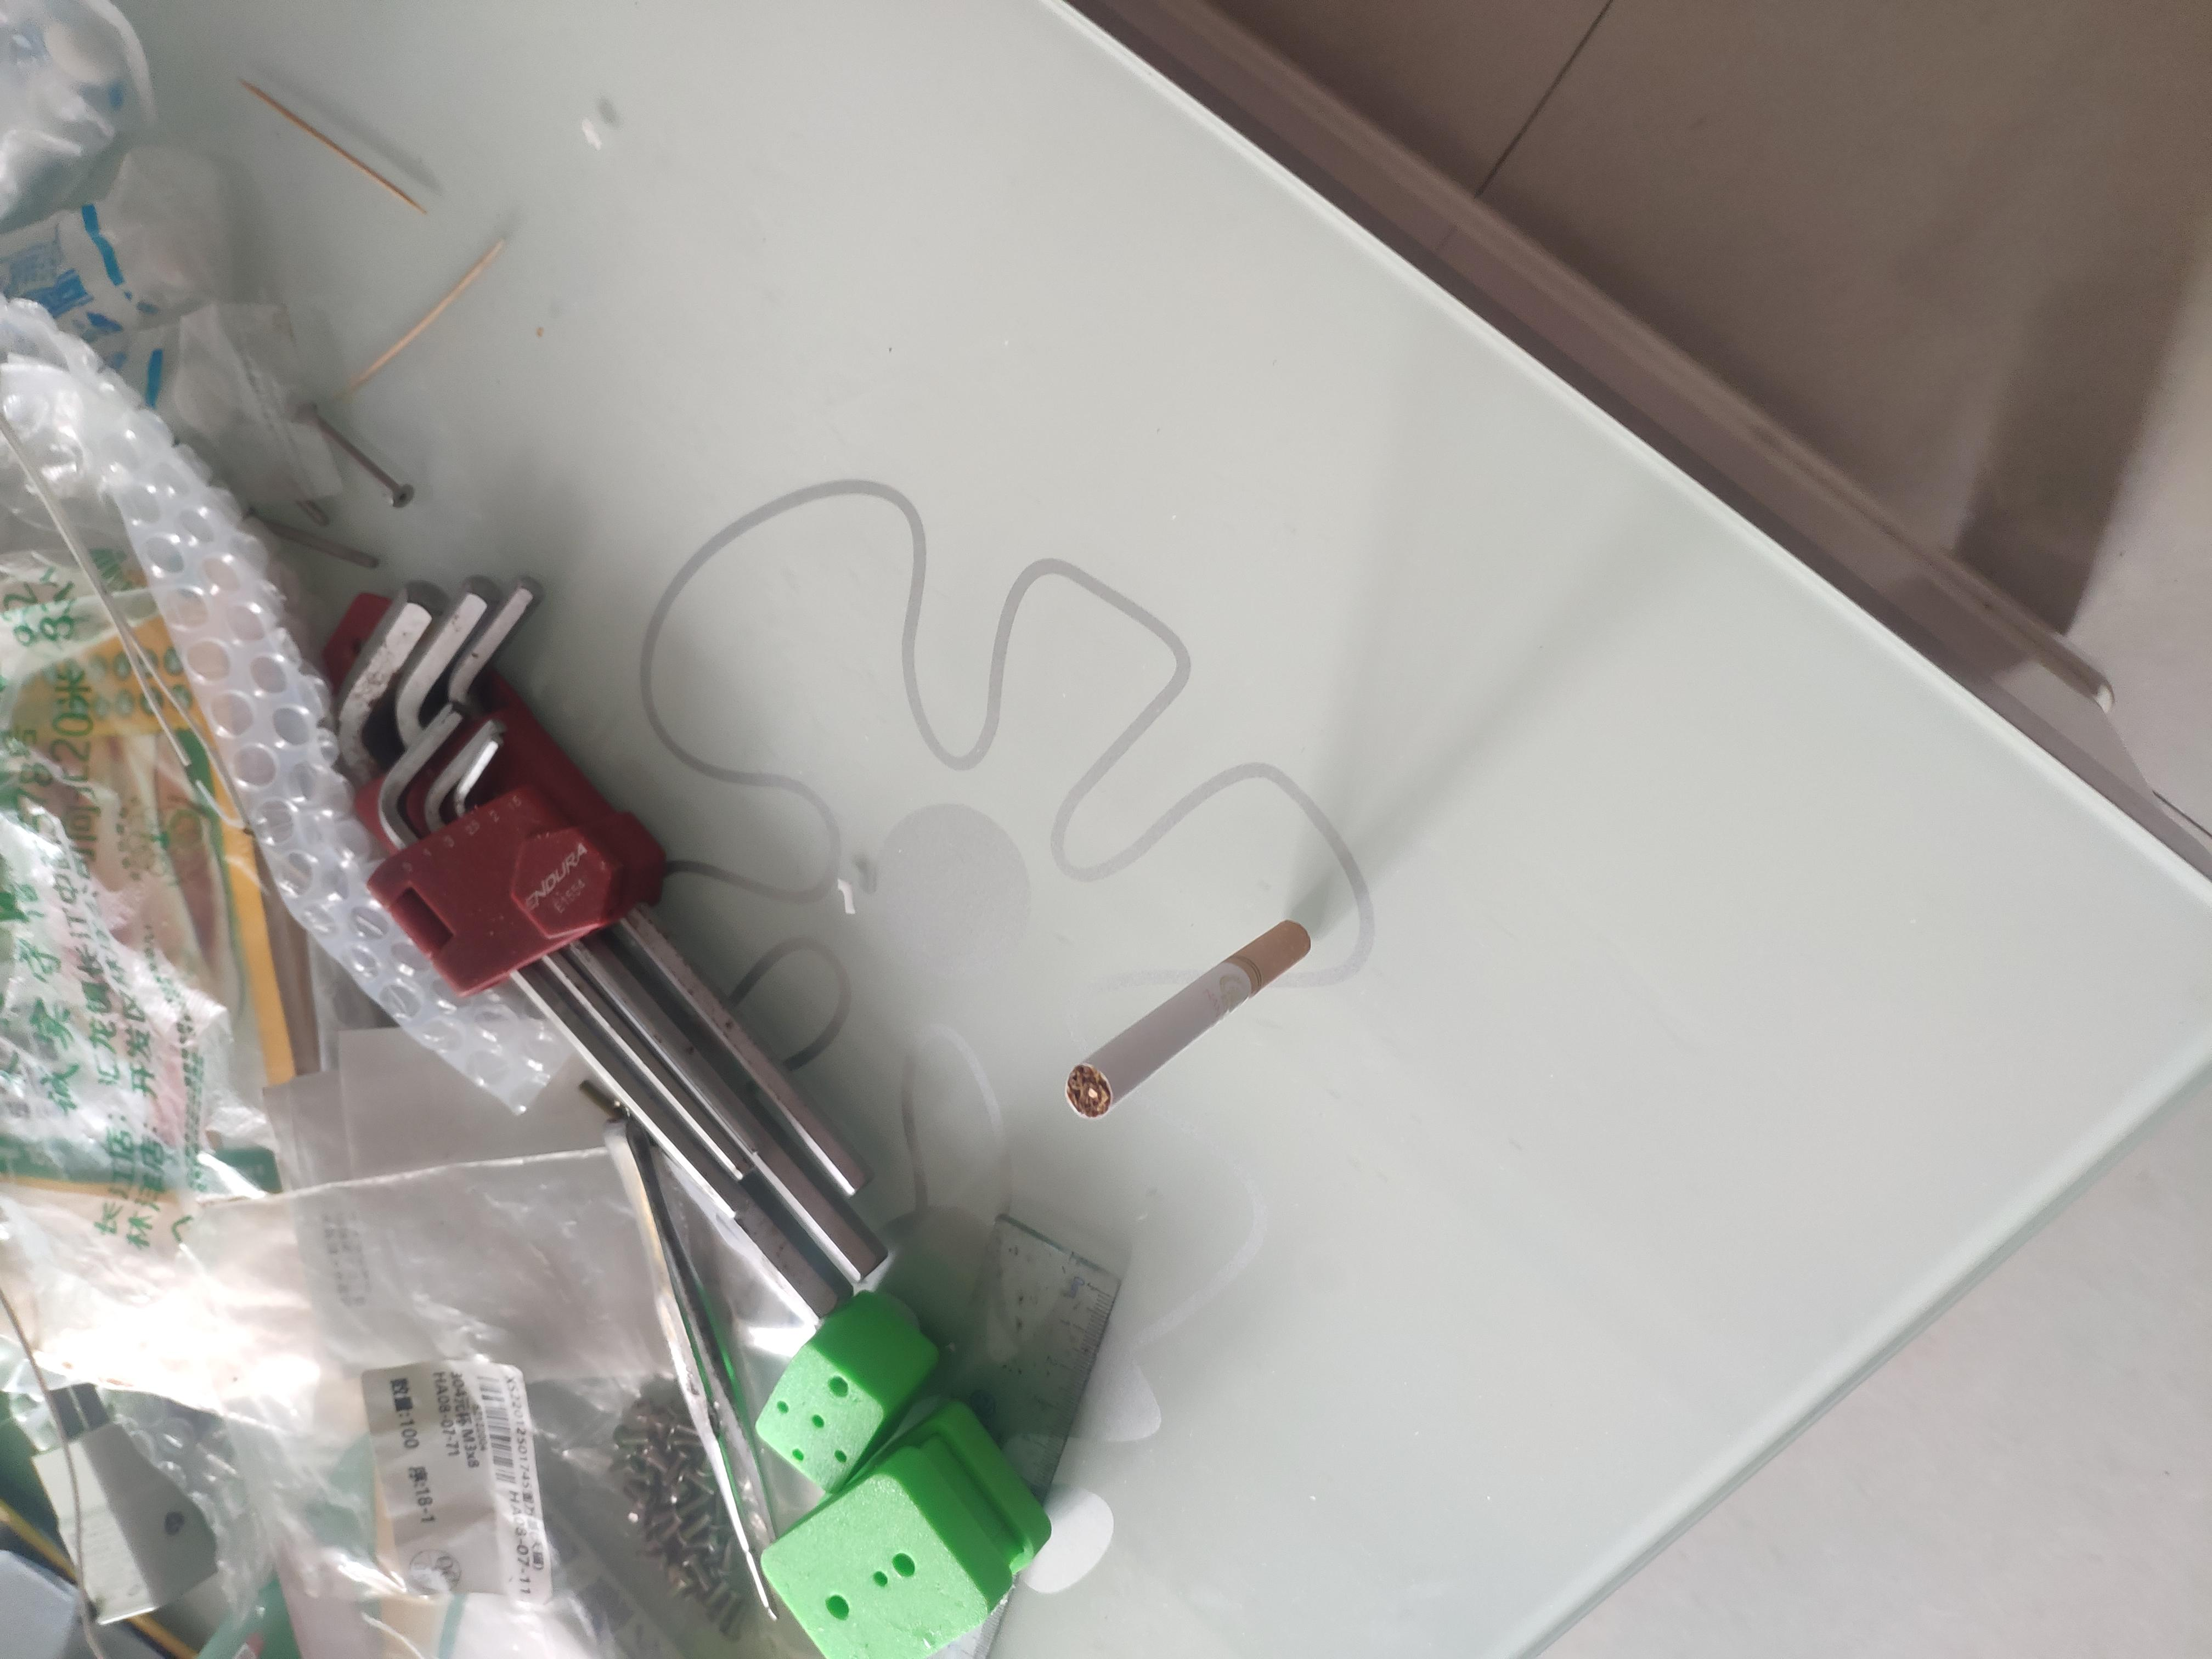smoke: (726, 796, 988, 985)
